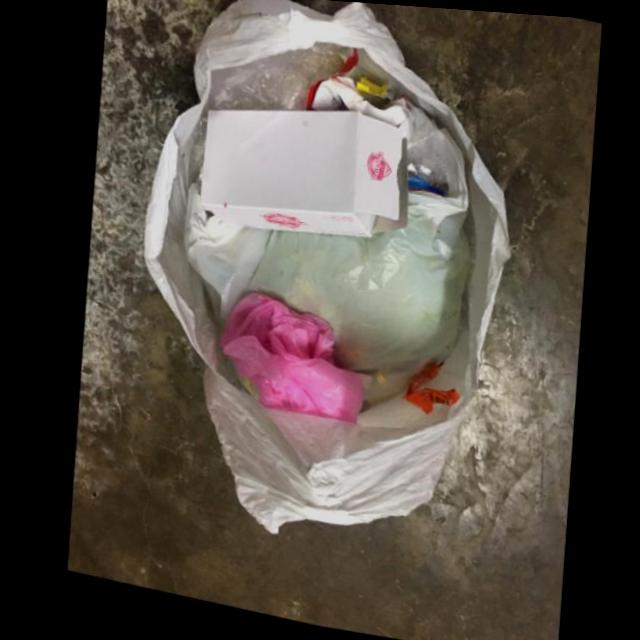bao_bi_thuc_pham: (398, 368, 455, 417)
carton: (195, 114, 404, 241)
giay: (307, 52, 407, 129)
tui_ni_long: (176, 113, 463, 414), (215, 299, 360, 431), (203, 51, 349, 118)
